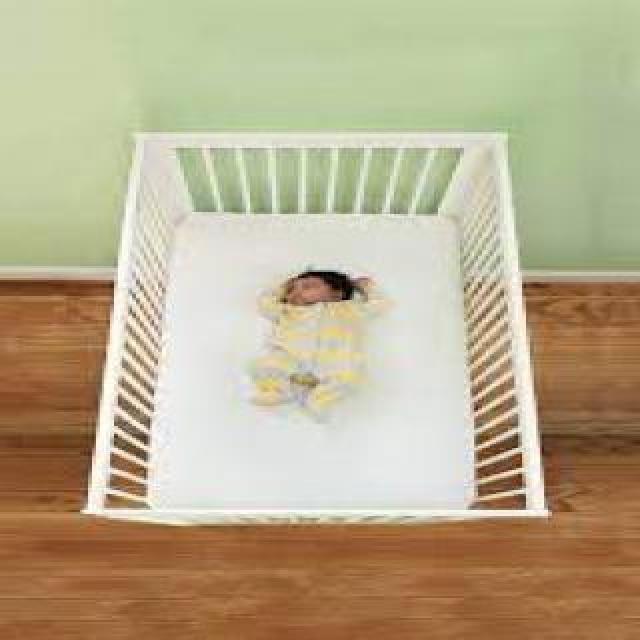baby: (250, 266, 390, 426)
